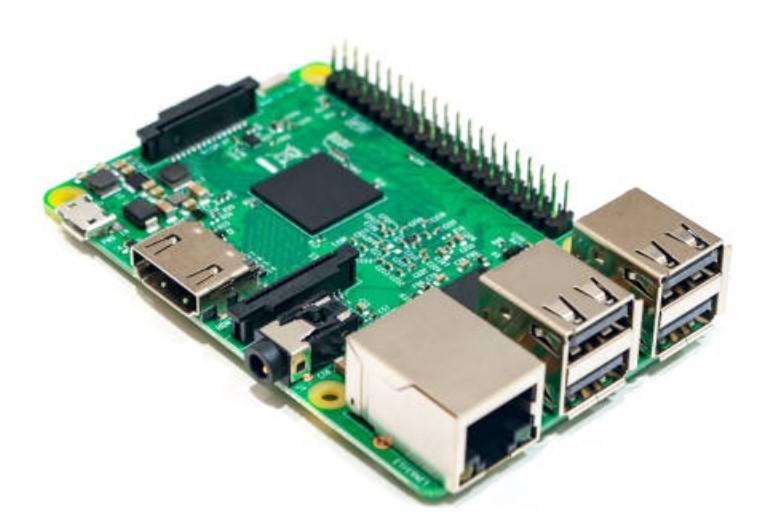Printed Circuit Board PCB: (40, 62, 727, 506)
